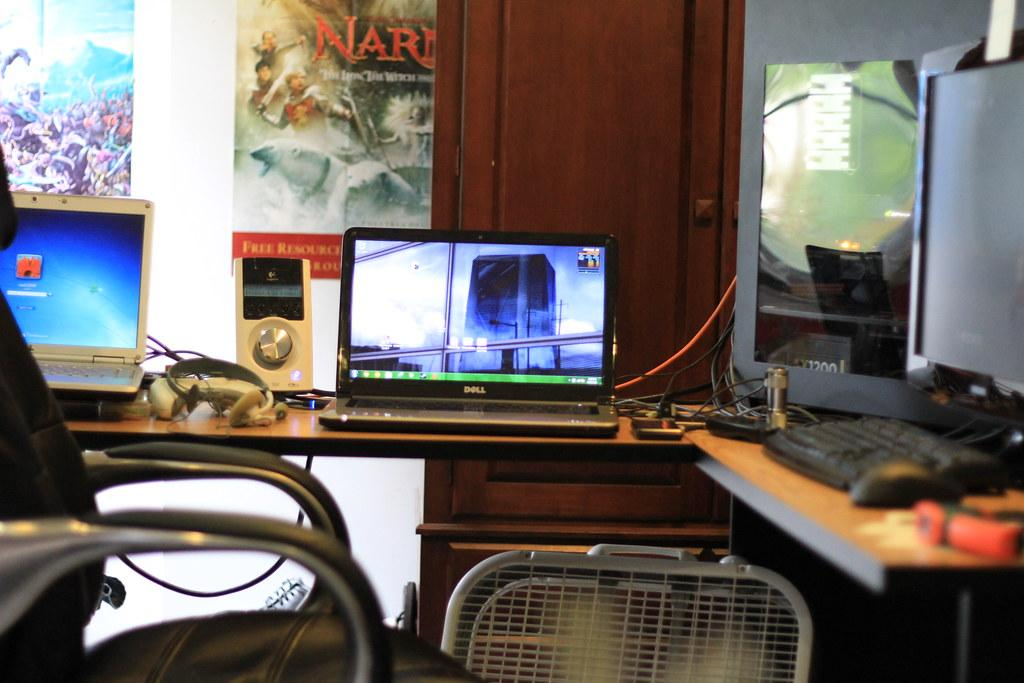computer: (730, 1, 1022, 440), (319, 226, 621, 437), (1, 191, 155, 399)
